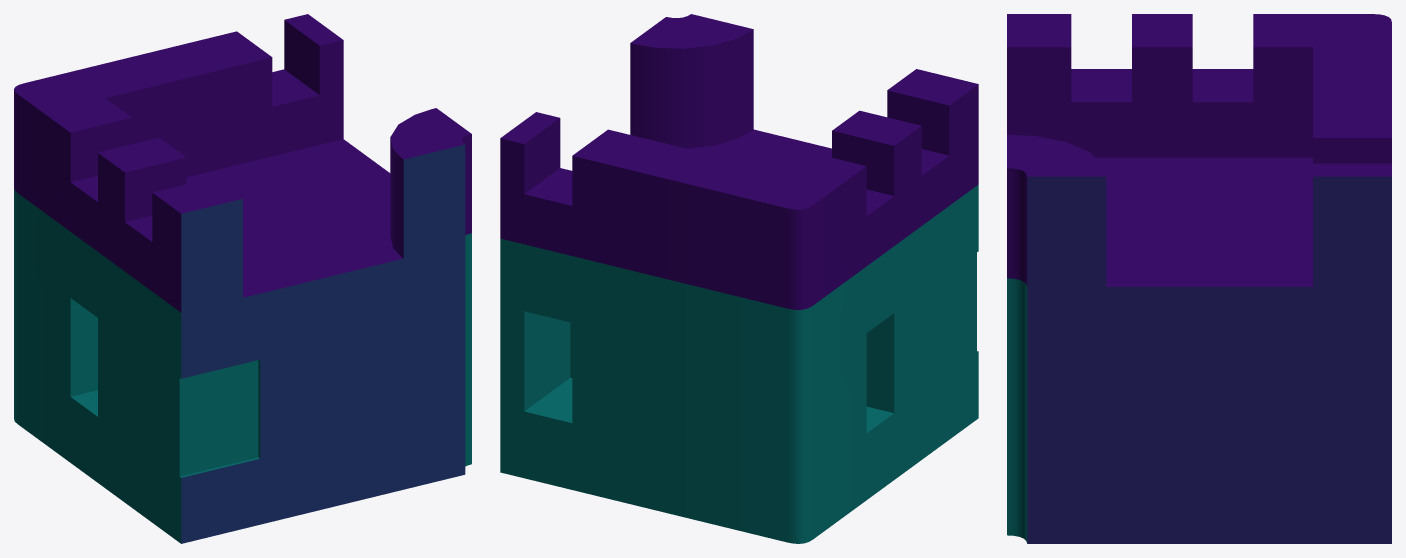
File: Roof_03_L_L.fbx
3 renders of one model, left to right at view 1: azimuth 30°, elevation 25°; view 2: azimuth 150°, elevation 25°; view 3: azimuth 270°, elevation 25°, orthographic. The views are drawn at different scales.
Visible parts, largest first — view 1: 3, 1, 4, 2; view 2: 4, 2, 3, 1; view 3: 1, 2, 3, 4.
Boxes of the visible parts, x1,y1,x2,y2 form: 3: (90,137,323,543); 1: (243,108,471,509); 4: (14,52,192,476); 2: (150,14,389,208); 4: (660,151,886,543); 2: (500,112,695,511); 3: (826,69,978,485); 1: (630,14,831,170); 1: (1007,134,1209,543); 2: (1209,91,1391,543); 3: (1007,14,1209,201); 4: (1209,14,1391,201).
Size of the model in its own units: 190 by 200 by 190.
